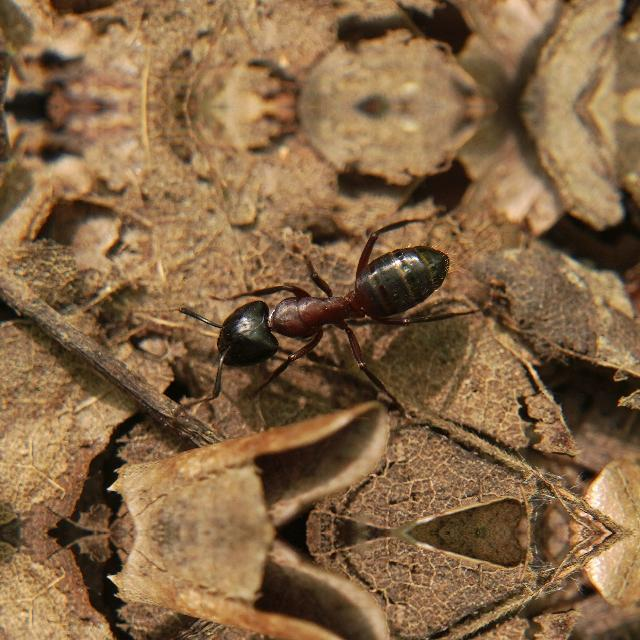Camponotus: (172, 222, 478, 390)
